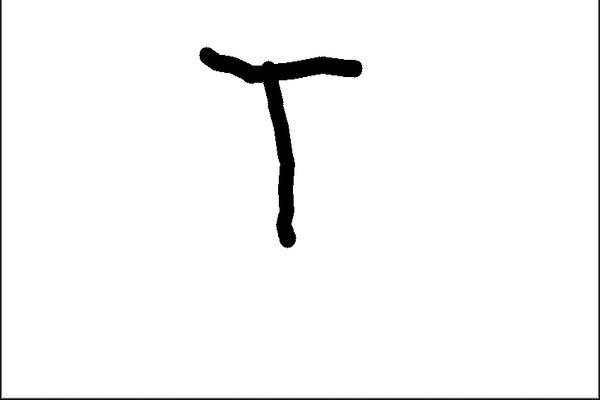T: (192, 38, 366, 246)
